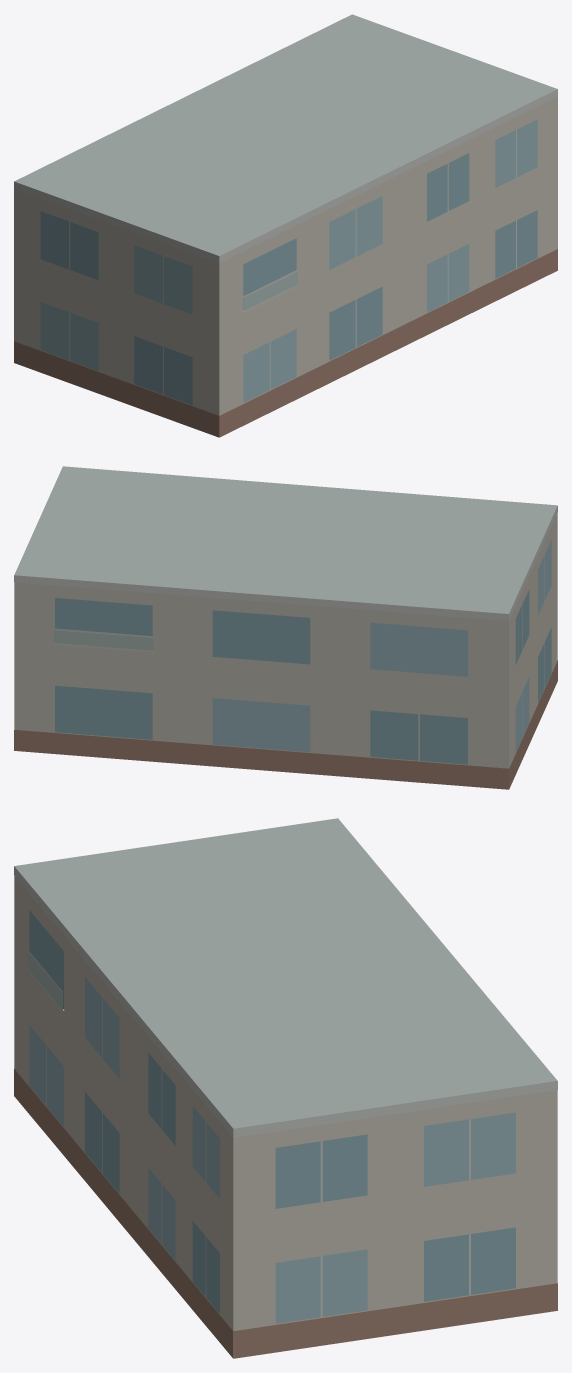
Rendered from survey-upis-33042580.glb.
3 renders of one model, top to bottom at view 1: azimuth 30°, elevation 25°; view 2: azimuth 150°, elevation 25°; view 3: azimuth 270°, elevation 25°, orthographic. The views are drawn at different scales.
Parts seen in each view (by area): view 1: survey-upis-33042580.tmp; view 2: survey-upis-33042580.tmp; view 3: survey-upis-33042580.tmp.
Boxes of the visible parts, x1,y1,x2,y2 form: survey-upis-33042580.tmp: [14, 14, 557, 437]; survey-upis-33042580.tmp: [14, 466, 557, 789]; survey-upis-33042580.tmp: [14, 818, 557, 1358].
Size of the model in its own units: 17.68 by 6.1 by 13.08.
